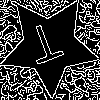T: (24, 20, 68, 74)
